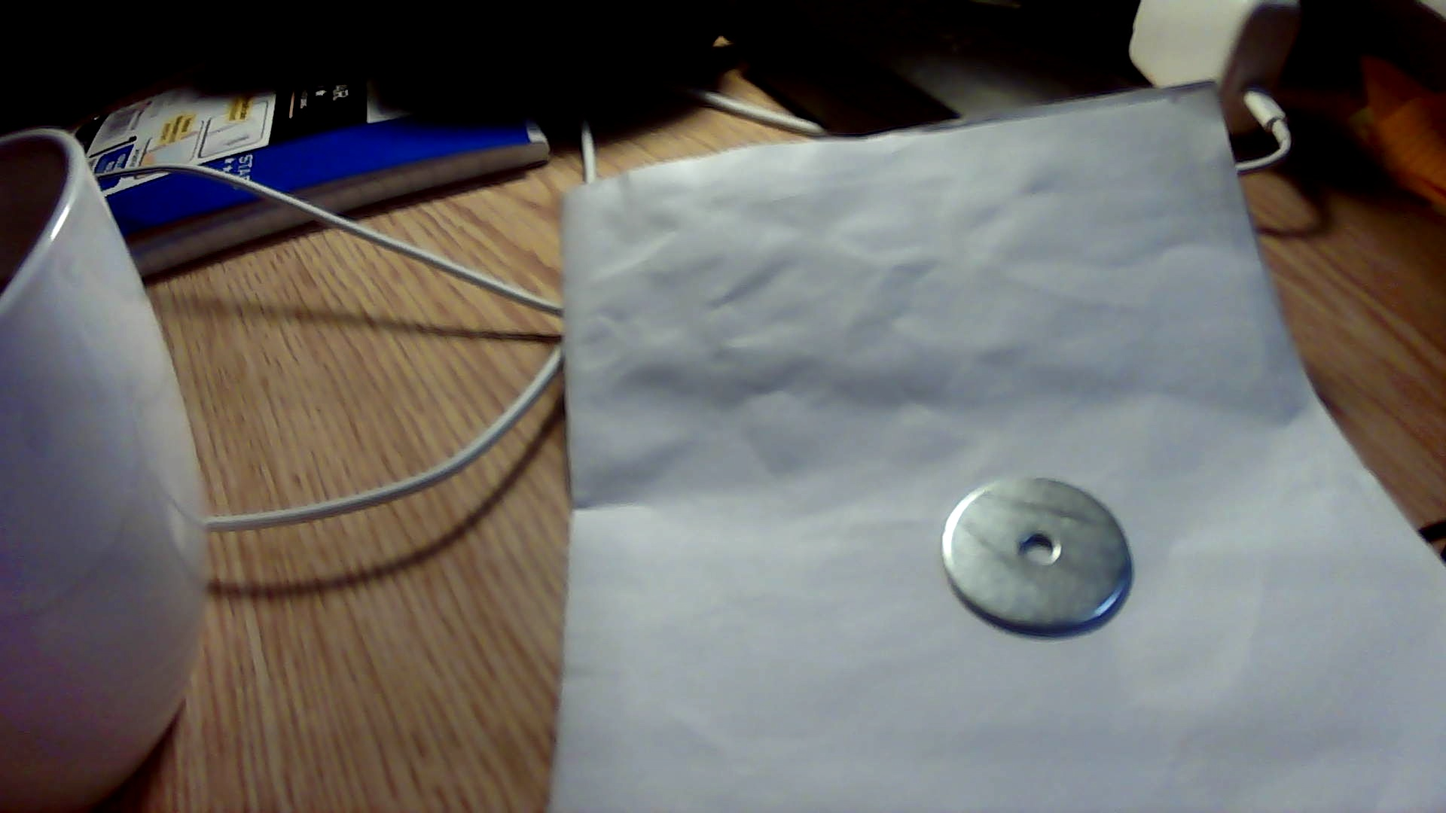DetectiveWashers: (966, 486, 1122, 625)
